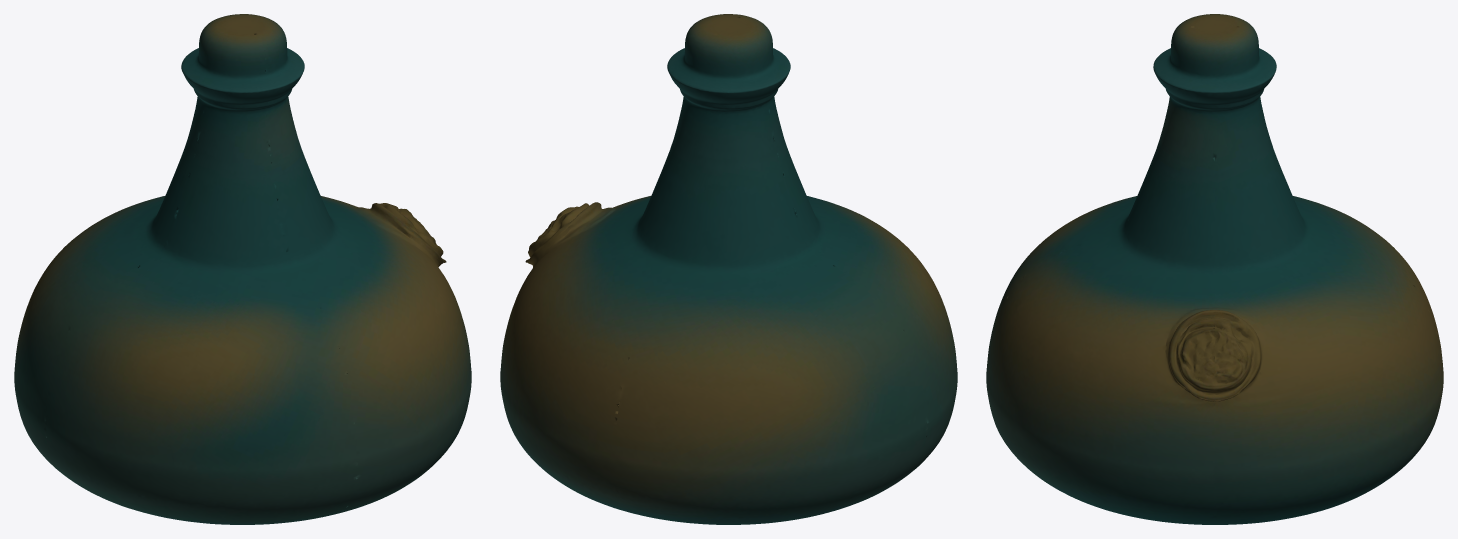
Rendered from botella_2.fbx.
3 renders of one model, left to right at view 1: azimuth 30°, elevation 25°; view 2: azimuth 150°, elevation 25°; view 3: azimuth 270°, elevation 25°, orthographic.
Parts seen in each view (by area): view 1: tripo_node_c8e1af14; view 2: tripo_node_c8e1af14; view 3: tripo_node_c8e1af14.
Boxes of the visible parts, x1,y1,x2,y2 form: tripo_node_c8e1af14: (14, 14, 471, 524); tripo_node_c8e1af14: (500, 14, 957, 524); tripo_node_c8e1af14: (986, 14, 1443, 524).
Size of the model in its own units: 0.9647 by 1 by 0.9649.
1 material, 1 textured.
